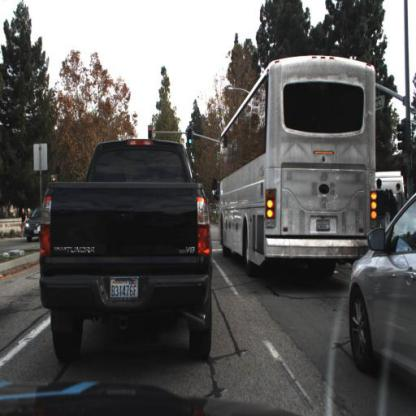car: (45, 139, 213, 359), (350, 202, 416, 378), (26, 208, 44, 242)
pedestrian: (377, 174, 386, 229), (388, 188, 396, 220), (397, 182, 405, 210)
trafficLight: (149, 126, 154, 142)
trafficLight-Green: (187, 127, 194, 147)
trafficLight-RedLeft: (51, 175, 59, 183)
truck: (217, 53, 380, 286), (378, 172, 406, 193)
